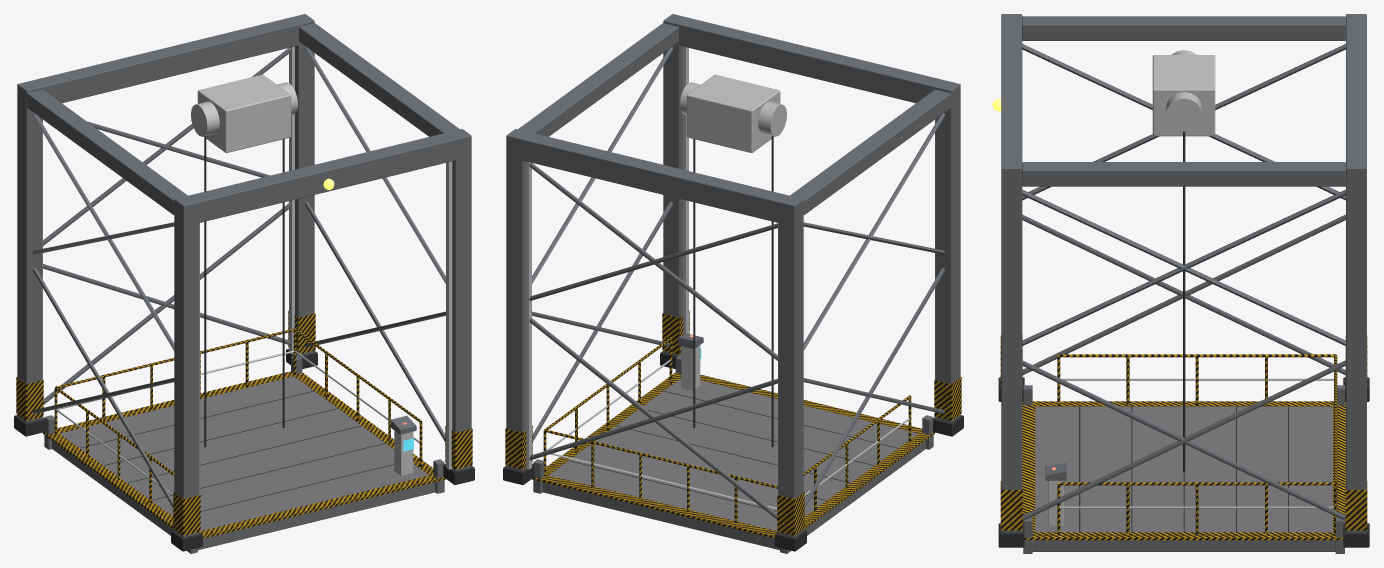
Rendered from cargo_lift.glb.
The picture shows the model from 3 angles, left to right: view 1: azimuth 30°, elevation 25°; view 2: azimuth 150°, elevation 25°; view 3: azimuth 270°, elevation 25°; orthographic projection. The views are drawn at different scales.
Visible parts, largest first — view 1: cargo_lift, Platform; view 2: cargo_lift, Platform; view 3: cargo_lift, Platform.
Boxes of the visible parts, left/top/right/bottom form: cargo_lift: left=14, top=14, right=474, bottom=551; Platform: left=44, top=328, right=444, bottom=553; cargo_lift: left=503, top=14, right=963, bottom=551; Platform: left=533, top=333, right=933, bottom=553; cargo_lift: left=992, top=14, right=1369, bottom=547; Platform: left=1023, top=354, right=1344, bottom=553.
Bounding box in the file's own units: 7.1 × 8.75 × 7.22.
10 materials, 1 textured.
